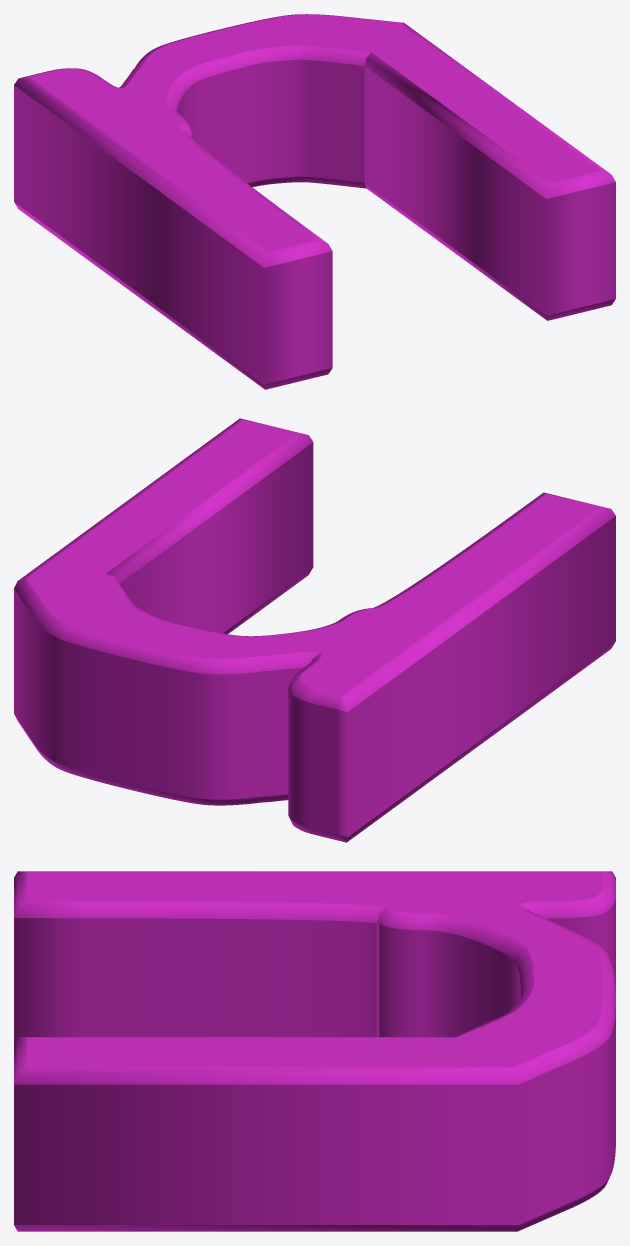
The model's file is Blocky_Letter_u.fbx.
The picture shows the model from 3 angles, top to bottom: view 1: azimuth 30°, elevation 25°; view 2: azimuth 150°, elevation 25°; view 3: azimuth 270°, elevation 25°; orthographic projection. The views are drawn at different scales.
Parts seen in each view (by area): view 1: BlockyLetter_u; view 2: BlockyLetter_u; view 3: BlockyLetter_u.
Part boxes in pixels (left/top/right/bottom): BlockyLetter_u: left=14, top=14, right=615, bottom=389; BlockyLetter_u: left=14, top=418, right=615, bottom=842; BlockyLetter_u: left=14, top=871, right=615, bottom=1231.
Bounding box in the file's own units: 0.3783 × 0.14 × 0.4657.
